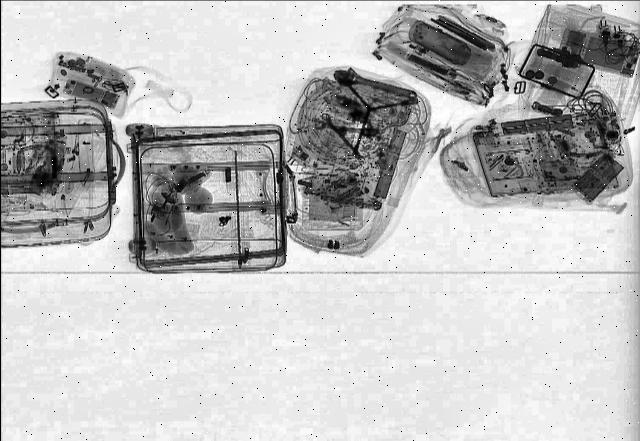Wrench: (311, 120, 377, 139)
